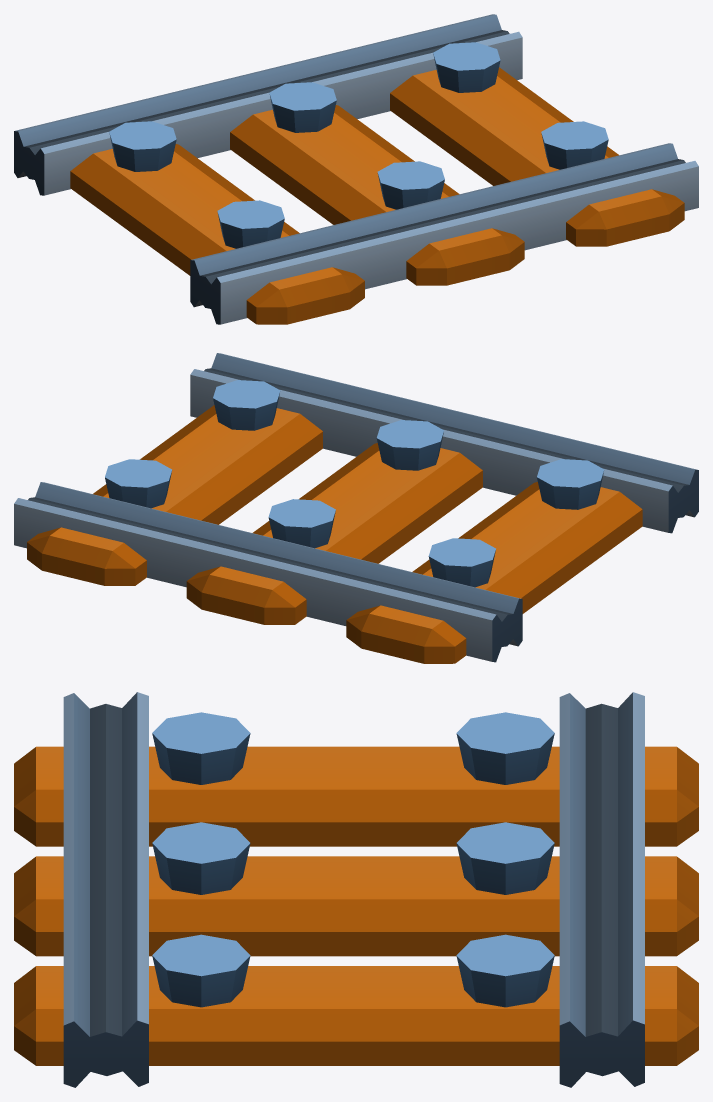
The model's file is Straight Rail Trans.fbx.
The picture shows the model from 3 angles, top to bottom: view 1: azimuth 30°, elevation 25°; view 2: azimuth 150°, elevation 25°; view 3: azimuth 270°, elevation 25°; orthographic projection. The views are drawn at different scales.
Visible parts, largest first — view 1: 1Br-DuzRay; view 2: 1Br-DuzRay; view 3: 1Br-DuzRay.
Part boxes in pixels (bbox=[...]): 1Br-DuzRay: bbox=[14, 14, 698, 324]; 1Br-DuzRay: bbox=[14, 353, 698, 663]; 1Br-DuzRay: bbox=[14, 692, 698, 1087].
Size of the model in its own units: 200 by 25.32 by 176.
